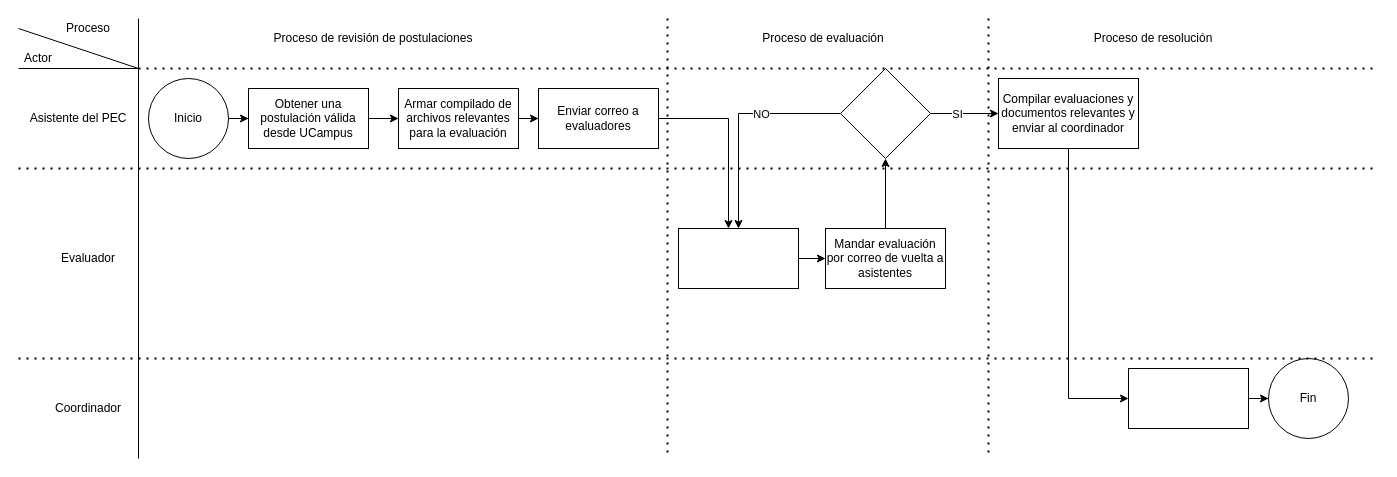
This 1397x477 diagram has some shape labels left out. The box of each missing label's shape, as (x1, y1, x2, y2) in pixels:
Completar evaluación: (678, 228, 798, 288)
evaluaciones completadas?: (840, 68, 930, 158)
Resolver postulación en UCampus: (1128, 368, 1248, 428)
